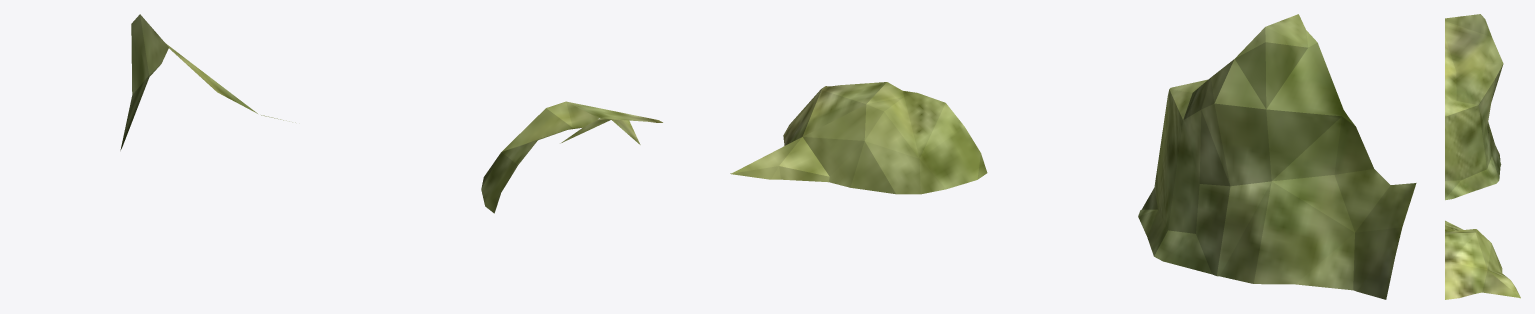
The picture shows the model from 3 angles, left to right: view 1: azimuth 30°, elevation 25°; view 2: azimuth 150°, elevation 25°; view 3: azimuth 270°, elevation 25°; orthographic projection. The views are drawn at different scales.
Bounding box in the file's own units: 1.62 × 0.6037 × 0.2925.
Materials: 1 (1 with a texture image).
